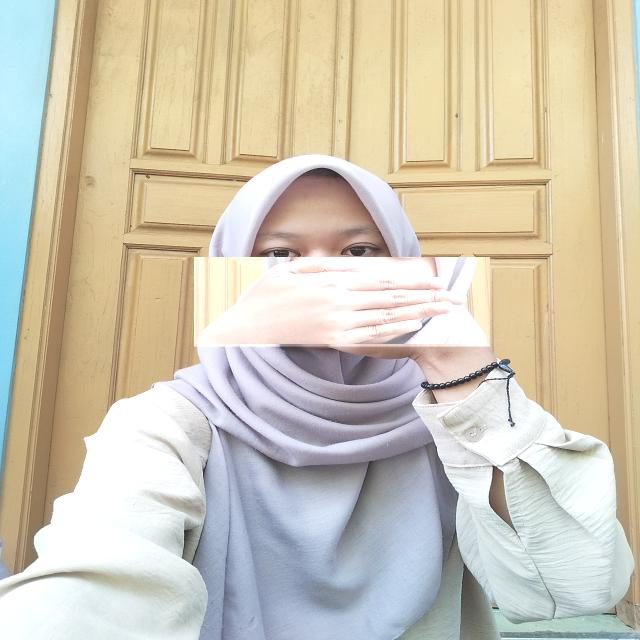buruk: (194, 258, 490, 348)
